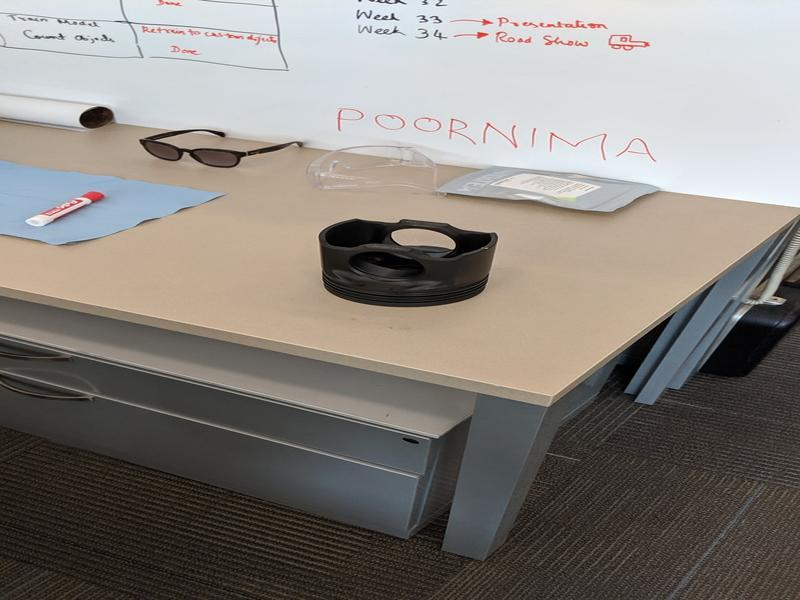piston: (313, 213, 502, 311)
